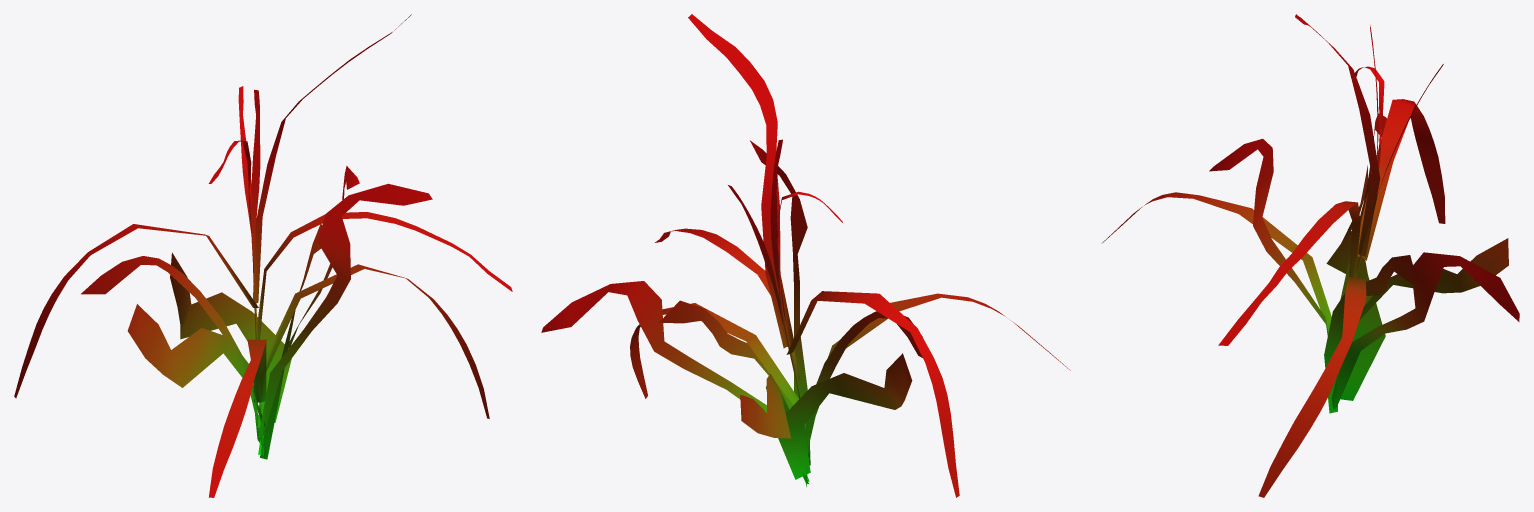
Rendered from tkbidaxia_Var10_LOD0.fbx.
3 views of the same model, side by side, from view 1: azimuth 30°, elevation 25°; view 2: azimuth 150°, elevation 25°; view 3: azimuth 270°, elevation 25° (orthographic). The views are drawn at different scales.
Visible parts, largest first — view 1: _de48_Var10_LOD0; view 2: _de48_Var10_LOD0; view 3: _de48_Var10_LOD0.
Boxes of the visible parts, x1,y1,x2,y2 form: _de48_Var10_LOD0: [14, 14, 512, 497]; _de48_Var10_LOD0: [541, 14, 1070, 497]; _de48_Var10_LOD0: [1101, 14, 1519, 497].
Size of the model in its own units: 26.32 by 26.77 by 21.7.
